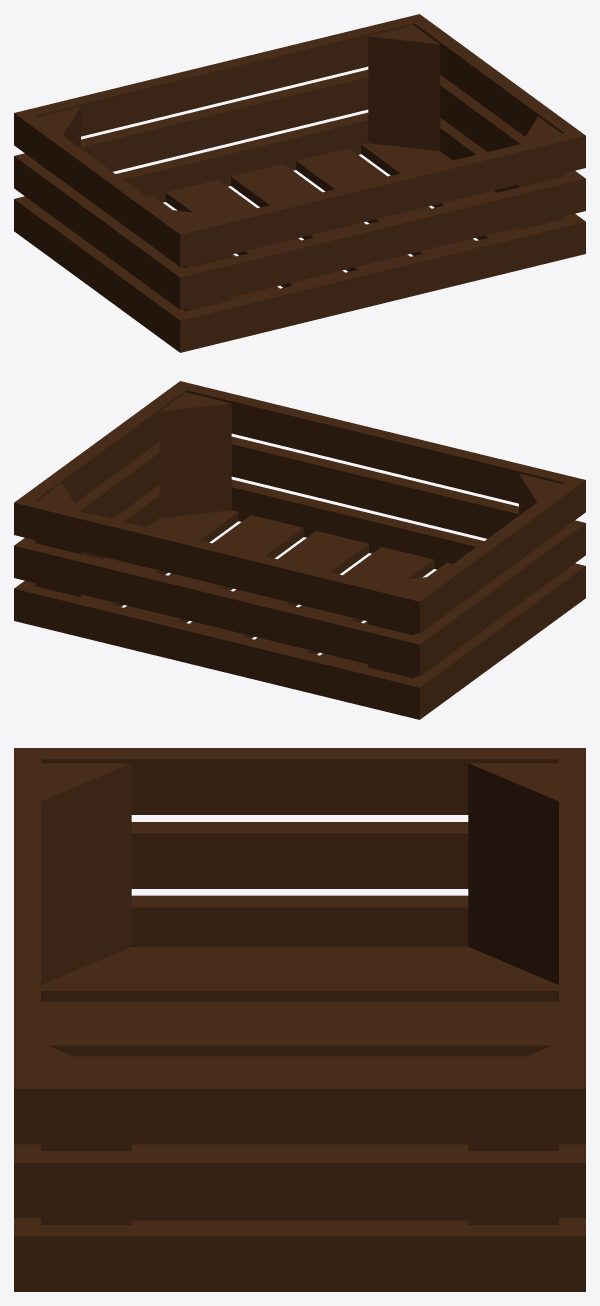
The model's file is LowCrate3Slats.fbx.
3 views of the same model, one above another, from view 1: azimuth 30°, elevation 25°; view 2: azimuth 150°, elevation 25°; view 3: azimuth 270°, elevation 25° (orthographic). The views are drawn at different scales.
Parts seen in each view (by area): view 1: LowCrate3Slats; view 2: LowCrate3Slats; view 3: LowCrate3Slats.
Boxes of the visible parts, bbox=[...] form: LowCrate3Slats: bbox=[14, 14, 585, 352]; LowCrate3Slats: bbox=[14, 381, 585, 719]; LowCrate3Slats: bbox=[14, 748, 585, 1291].
Size of the model in its own units: 44.16 by 62.22 by 17.33.
